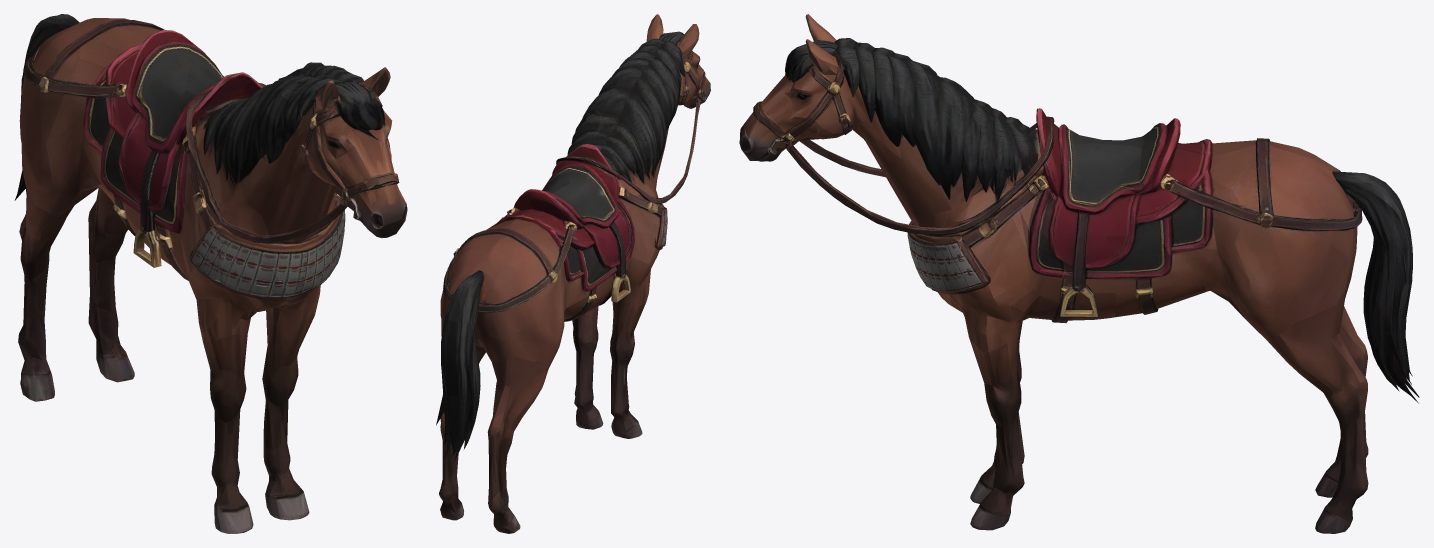
File: horse.glb
3 views of the same model, side by side, from view 1: azimuth 30°, elevation 25°; view 2: azimuth 150°, elevation 25°; view 3: azimuth 270°, elevation 25° (orthographic). The views are drawn at different scales.
Size of the model in its own units: 0.4676 by 1.49 by 1.9.
1 material, 1 textured.
